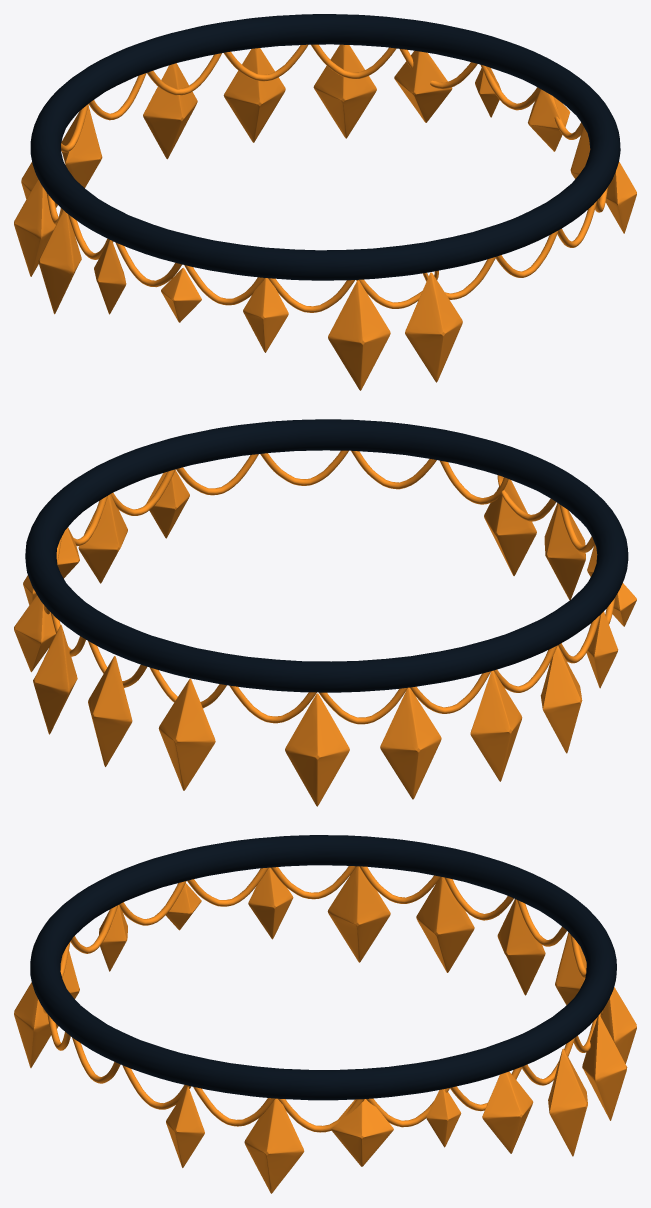
3 renders of one model, top to bottom at view 1: azimuth 30°, elevation 25°; view 2: azimuth 150°, elevation 25°; view 3: azimuth 270°, elevation 25°, orthographic. The views are drawn at different scales.
Parts seen in each view (by area): view 1: 441, crystals_010, string_001; view 2: 441, crystals_010, string_001; view 3: 441, crystals_010, string_001.
Part boxes in pixels (left/top/right/bottom): 441: left=30, top=14, right=620, bottom=280; crystals_010: left=14, top=44, right=636, bottom=390; string_001: left=46, top=44, right=607, bottom=312; 441: left=25, top=419, right=628, bottom=692; crystals_010: left=14, top=470, right=636, bottom=806; string_001: left=43, top=450, right=615, bottom=724; 441: left=30, top=835, right=616, bottom=1100; crystals_010: left=14, top=866, right=636, bottom=1193; string_001: left=42, top=866, right=602, bottom=1132.
Bounding box in the file's own units: 57.53 × 58.8 × 14.01.
